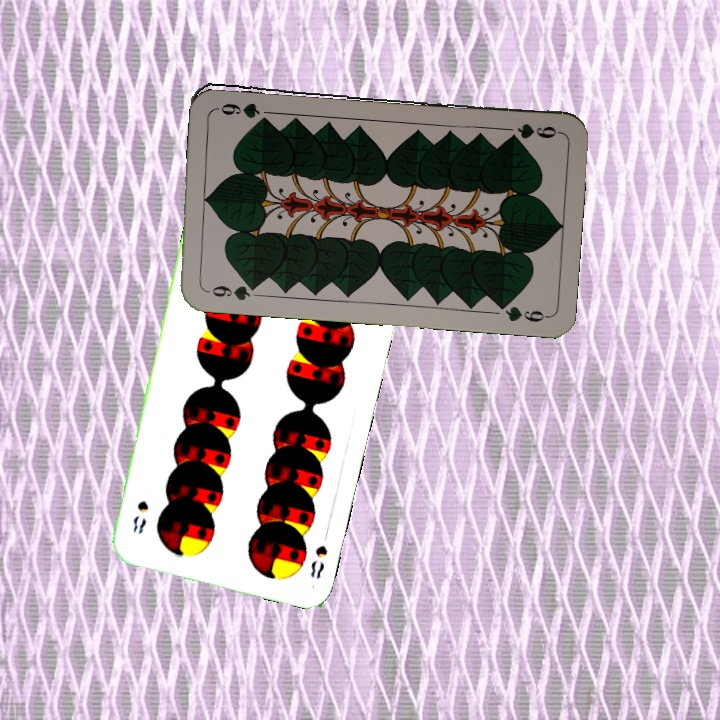G9: (201, 280, 261, 303), (513, 120, 563, 141)
S8: (306, 541, 330, 582)
